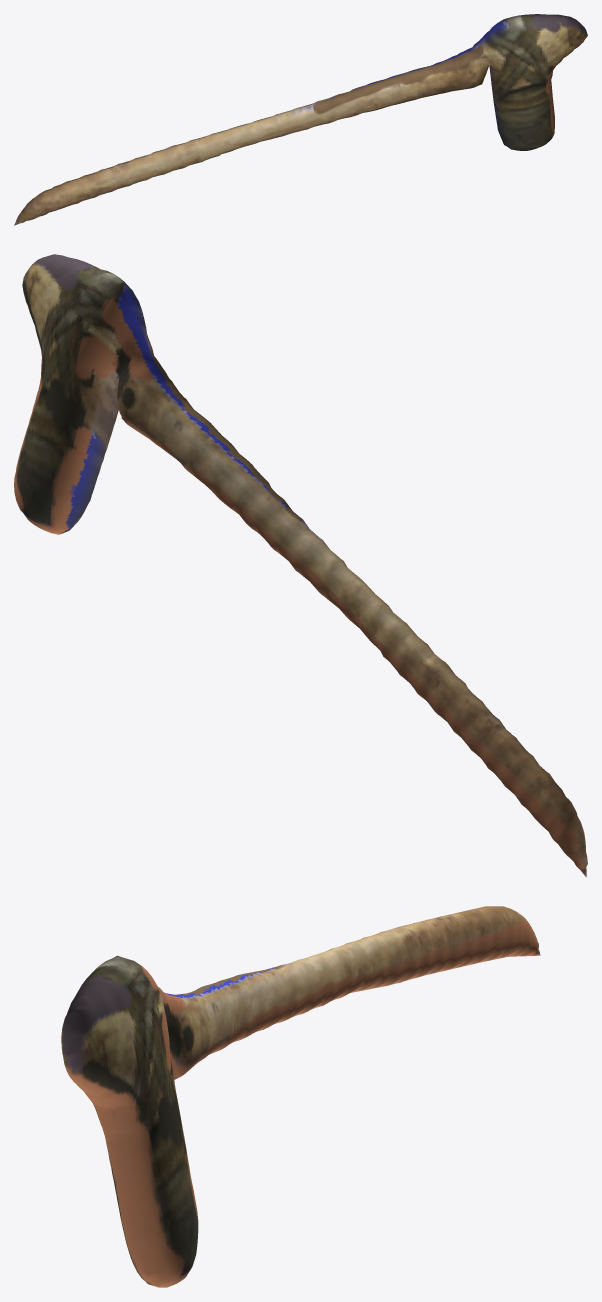
3 views of the same model, one above another, from view 1: azimuth 30°, elevation 25°; view 2: azimuth 150°, elevation 25°; view 3: azimuth 270°, elevation 25° (orthographic). The views are drawn at different scales.
Parts seen in each view (by area): view 1: obj1; view 2: obj1; view 3: obj1.
Part boxes in pixels (x1,y1,x2,y2): obj1: (14,14,587,225); obj1: (14,254,587,876); obj1: (61,906,540,1287).
Bounding box in the file's own units: 37.96 × 15.09 × 17.22.
Materials: 1 (1 with a texture image).
